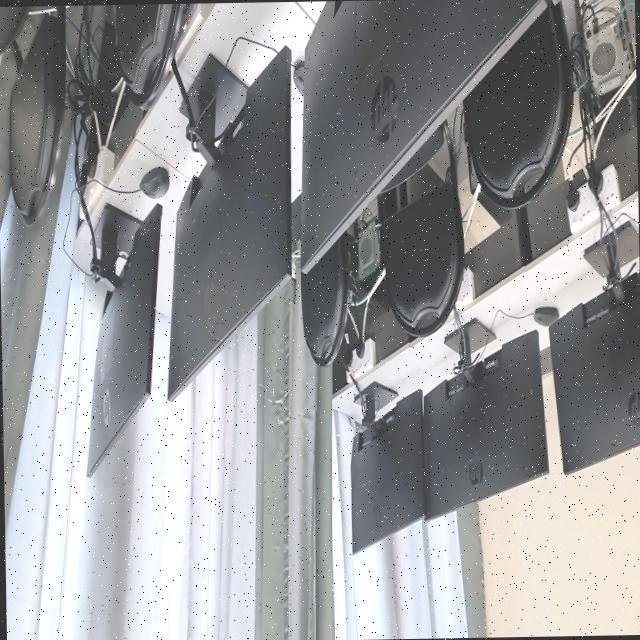Chair: (463, 0, 572, 208), (378, 120, 463, 336), (0, 4, 75, 224), (115, 2, 184, 109), (300, 231, 350, 366)
Cpu: (575, 0, 637, 158), (462, 128, 510, 227), (352, 194, 387, 312)
Monitor: (300, 0, 544, 271), (167, 45, 290, 399), (422, 311, 547, 518), (548, 219, 640, 472), (86, 202, 161, 476), (349, 380, 423, 553)
Mouse: (138, 166, 168, 197), (532, 306, 558, 326), (292, 60, 303, 94)
